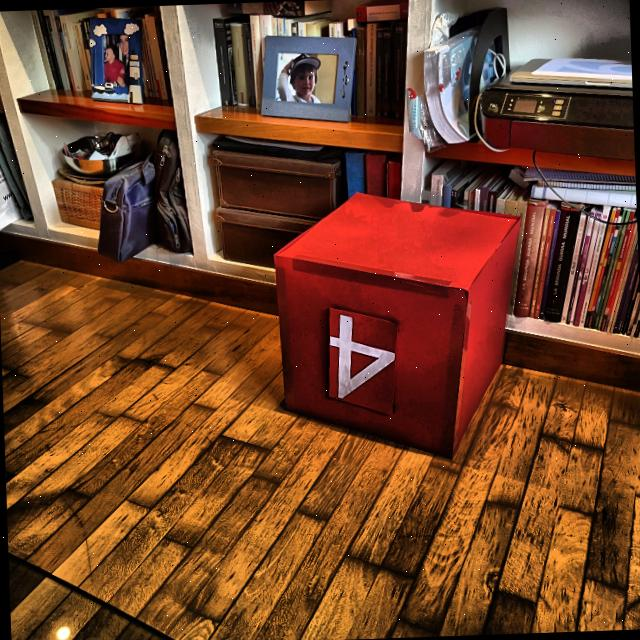four: (328, 313, 397, 401)
red box: (267, 181, 532, 467)
